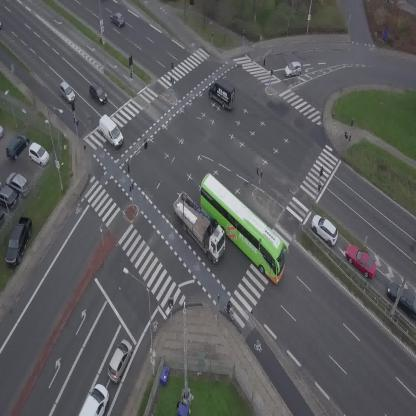bicycle: (223, 299, 236, 320)
bus: (187, 168, 301, 286)
car: (340, 239, 382, 282), (103, 337, 137, 384), (306, 211, 344, 248), (79, 380, 115, 416), (85, 81, 111, 107), (54, 80, 78, 105), (283, 60, 303, 78), (109, 11, 127, 30)
lorry: (164, 187, 237, 265), (203, 74, 242, 112), (92, 113, 129, 150)
